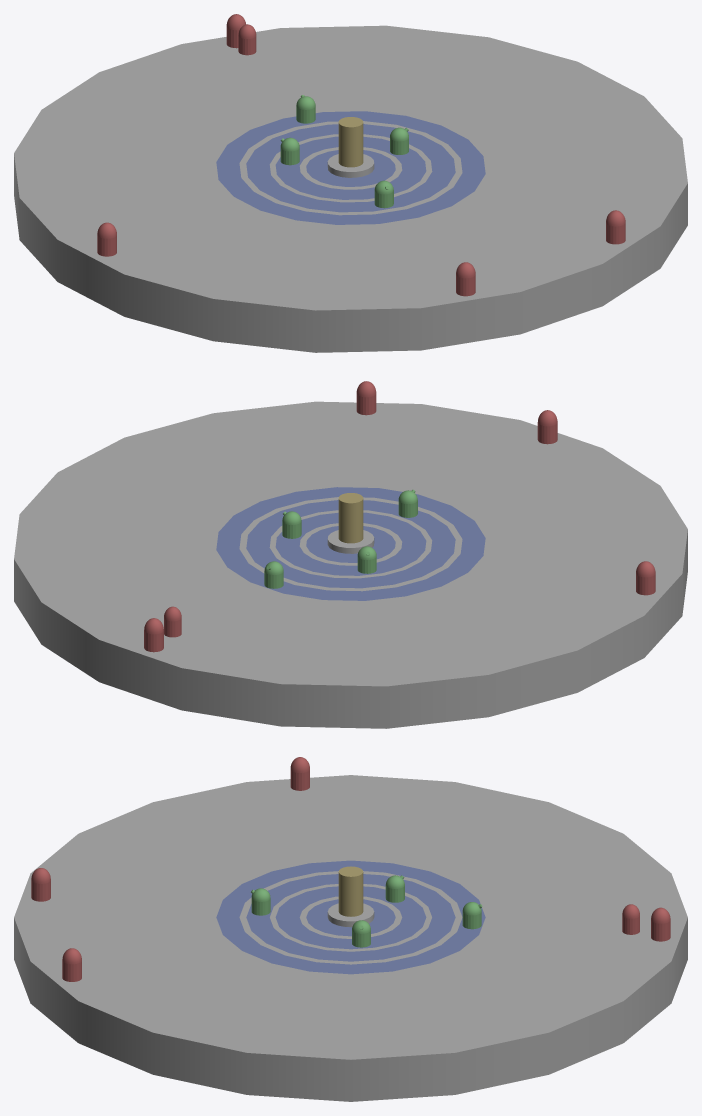
Rendered from Map.fbx.
3 renders of one model, top to bottom at view 1: azimuth 30°, elevation 25°; view 2: azimuth 150°, elevation 25°; view 3: azimuth 270°, elevation 25°, orthographic.
Visible parts, largest first — view 1: pCylinder37, pCylinder38, pCylinder36, pCylinder45, pCylinder44, pCylinder46, pCylinder48; view 2: pCylinder37, pCylinder38, pCylinder36, pCylinder45, pCylinder44, pCylinder46, pCylinder47; view 3: pCylinder37, pCylinder38, pCylinder36, pCylinder47, pCylinder44, pCylinder46, pCylinder45.
Boxes of the visible parts, bbox=[...] form: pCylinder37: bbox=[14, 25, 687, 352]; pCylinder38: bbox=[338, 117, 363, 167]; pCylinder36: bbox=[327, 154, 374, 177]; pCylinder45: bbox=[606, 210, 625, 244]; pCylinder44: bbox=[456, 262, 475, 296]; pCylinder46: bbox=[97, 222, 116, 256]; pCylinder48: bbox=[238, 24, 256, 55]; pCylinder37: bbox=[14, 401, 687, 728]; pCylinder38: bbox=[338, 493, 363, 543]; pCylinder36: bbox=[327, 530, 374, 553]; pCylinder45: bbox=[356, 381, 376, 415]; pCylinder44: bbox=[537, 410, 557, 444]; pCylinder46: bbox=[636, 561, 655, 595]; pCylinder47: bbox=[144, 618, 163, 652]; pCylinder37: bbox=[14, 775, 687, 1101]; pCylinder38: bbox=[338, 866, 363, 916]; pCylinder36: bbox=[327, 903, 374, 927]; pCylinder47: bbox=[651, 907, 670, 941]; pCylinder44: bbox=[31, 868, 50, 901]; pCylinder46: bbox=[290, 757, 309, 790]; pCylinder45: bbox=[62, 948, 81, 981].
Size of the model in its own units: 4.61 by 0.6638 by 4.61.
